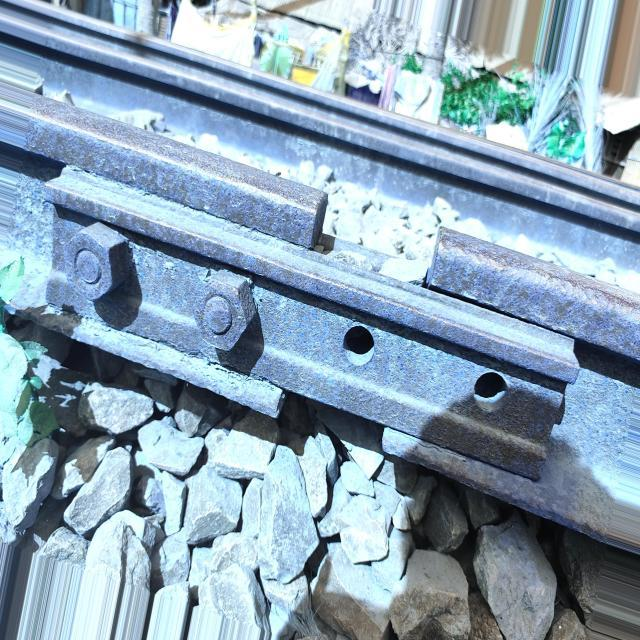Defective Joint: (46, 163, 578, 484)
